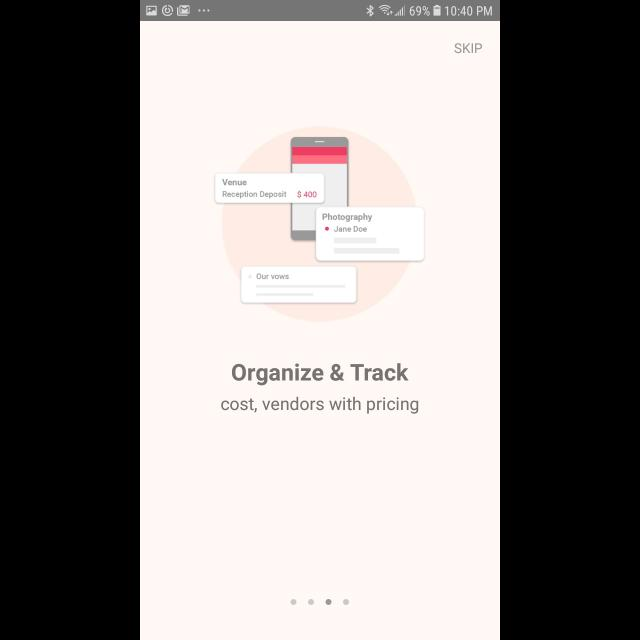image: (214, 125, 426, 322)
pageindicator: (290, 598, 350, 606)
text: (232, 362, 408, 386), (221, 397, 419, 415), (454, 42, 482, 54)
uppertaskbar: (140, 1, 500, 22)
